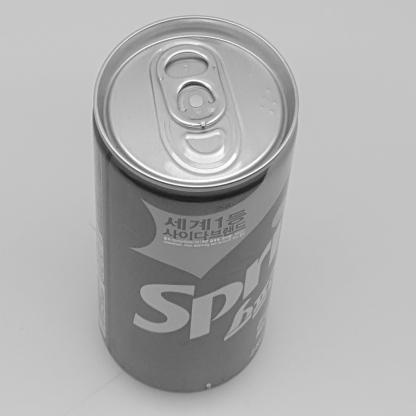alumunium_can: (84, 6, 307, 416)
